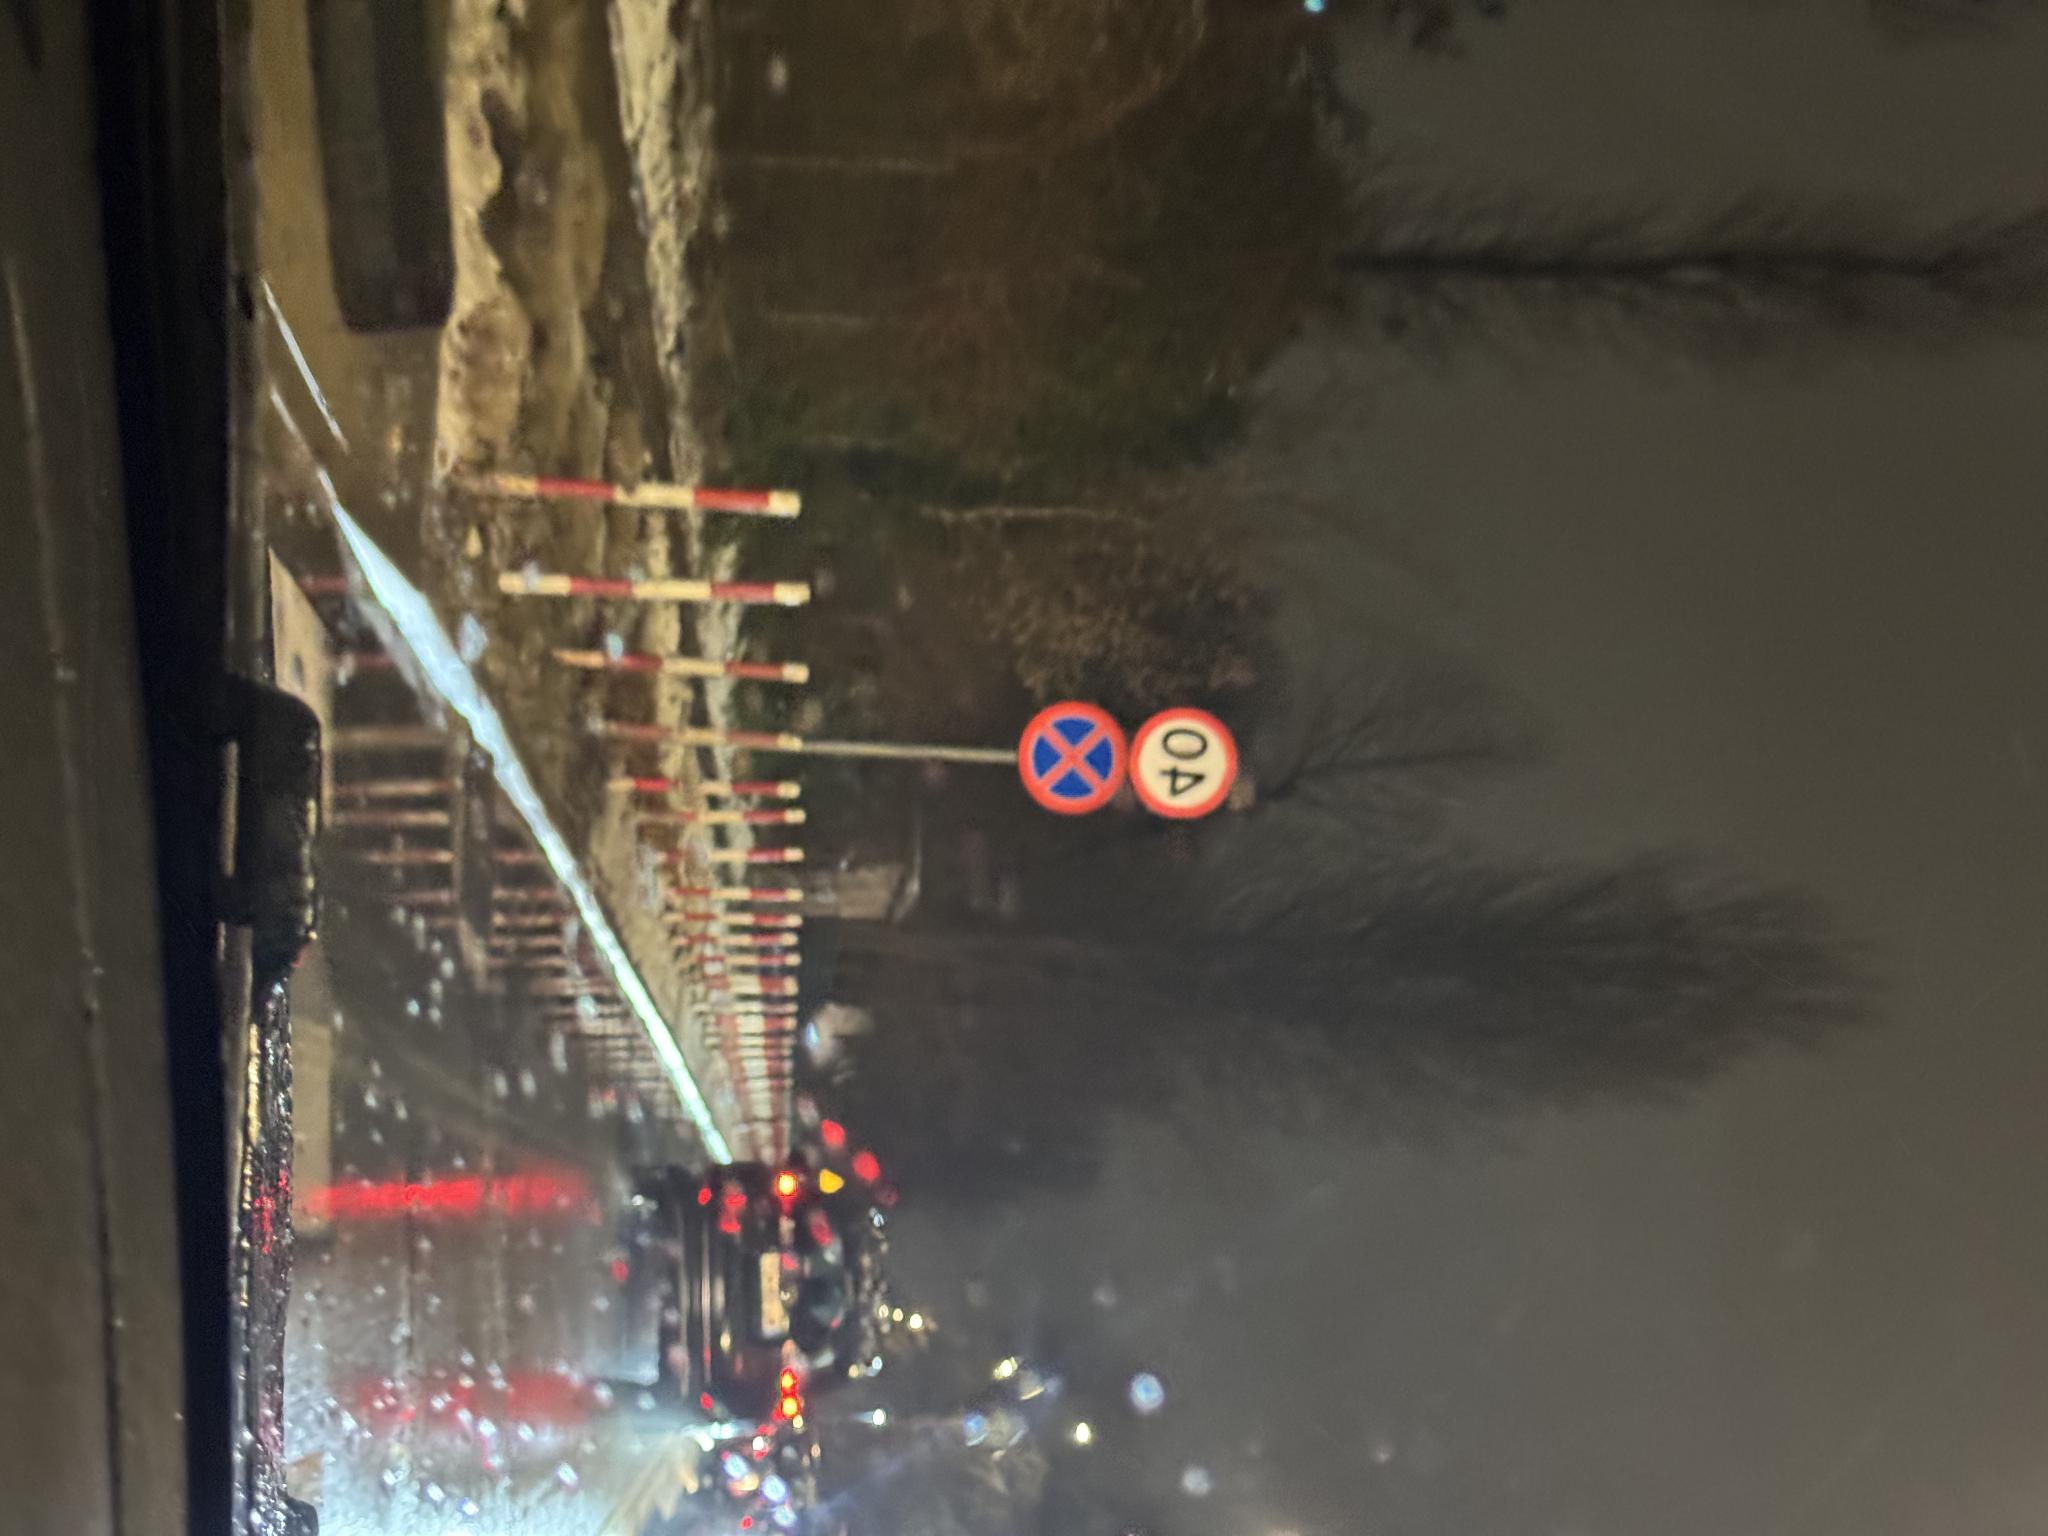prohibitory: (1219, 808, 1332, 923), (1209, 921, 1326, 1029)
